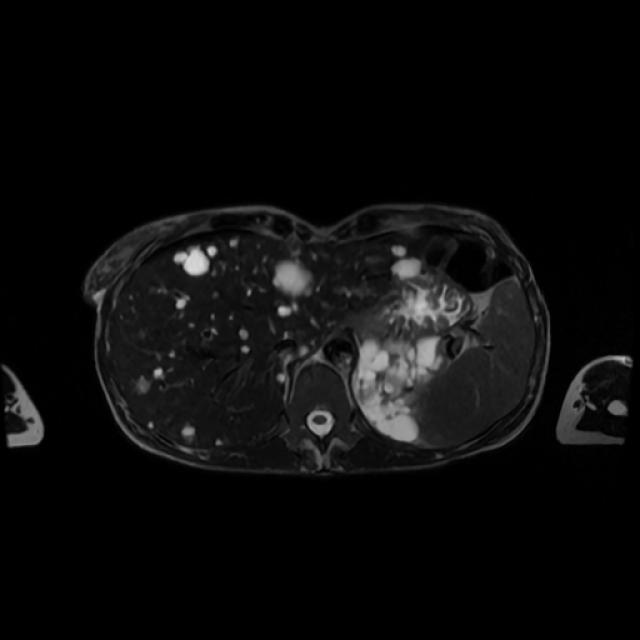sol: (352, 333, 447, 444)
